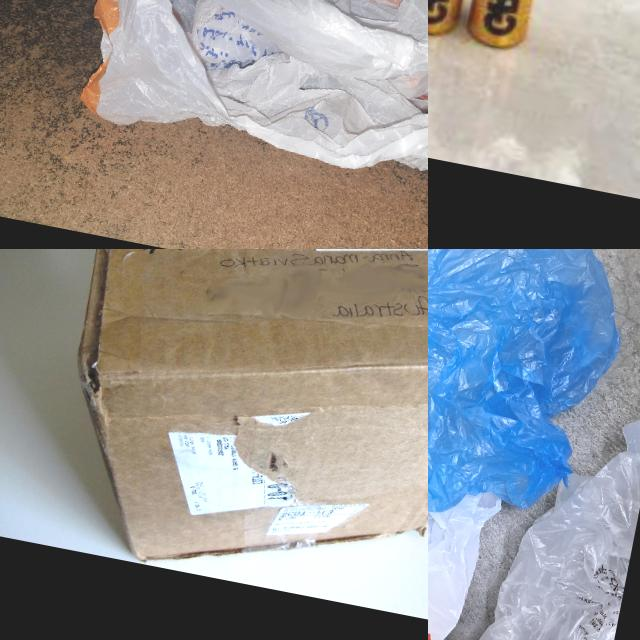bateria: (461, 0, 563, 53)
papelão: (34, 249, 428, 632)
sacola plástica: (69, 0, 428, 202), (428, 249, 640, 558), (429, 386, 640, 640), (428, 429, 518, 640)
